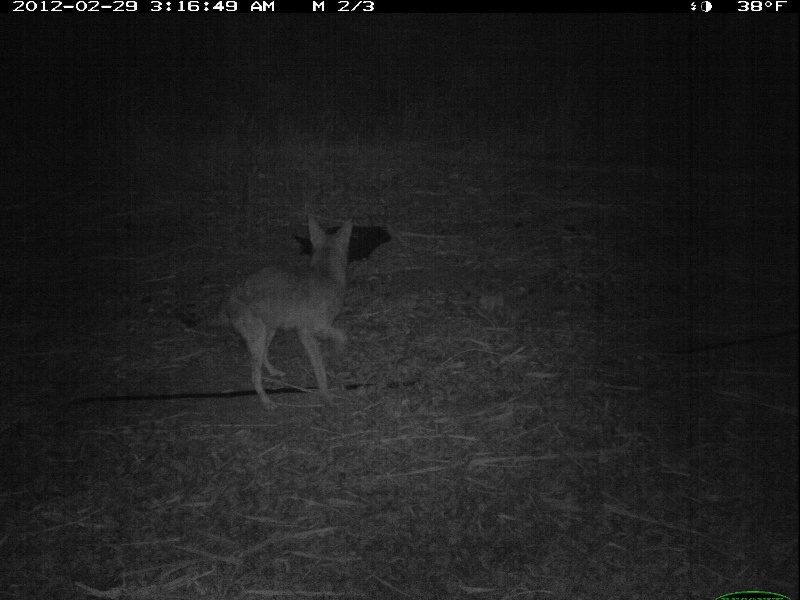coyote: (195, 212, 361, 417)
